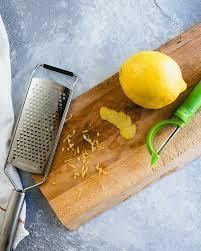lemon: (119, 51, 187, 109)
